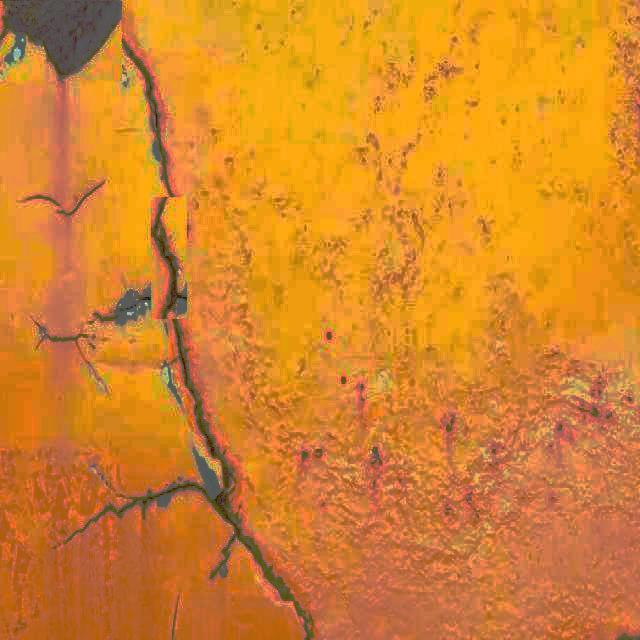Corrosion: (174, 320, 251, 548), (223, 513, 315, 640), (63, 482, 239, 544), (4, 0, 121, 76), (123, 37, 174, 196), (149, 197, 177, 319), (25, 180, 105, 216), (33, 322, 92, 368)
